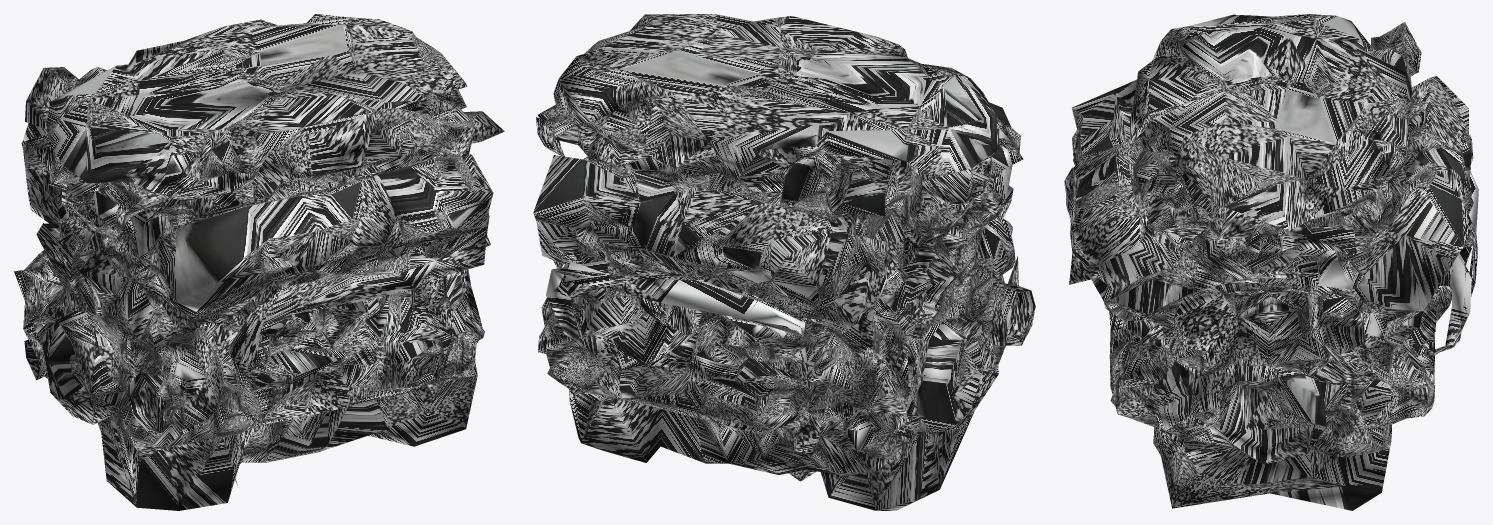
The model's file is mesin-v8-far.glb.
3 views of the same model, side by side, from view 1: azimuth 30°, elevation 25°; view 2: azimuth 150°, elevation 25°; view 3: azimuth 270°, elevation 25° (orthographic). The views are drawn at different scales.
Bounding box in the file's own units: 1.75 × 1.69 × 1.63.
Materials: 1 (1 with a texture image).
